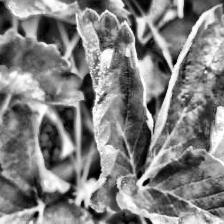Powdery Mildew Leaf: (75, 7, 154, 216), (140, 3, 224, 180), (115, 146, 224, 224), (0, 27, 85, 107)
